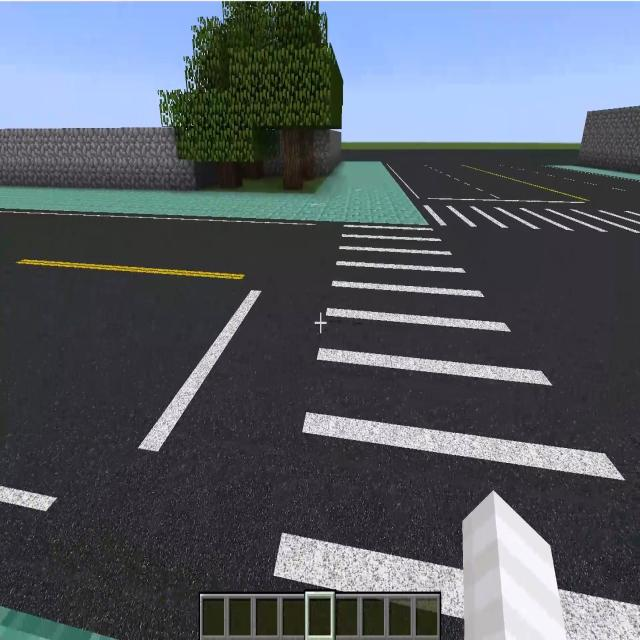crosswalk: (268, 222, 637, 639), (415, 185, 639, 239)
road: (3, 222, 337, 639), (461, 239, 635, 434), (361, 150, 577, 179)
sidewalk: (0, 157, 426, 223)
